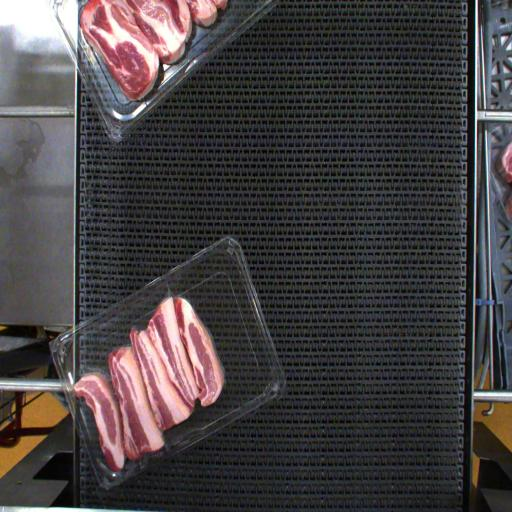packaging-error: (159, 282, 181, 298)
unsealed: (70, 355, 122, 393)
